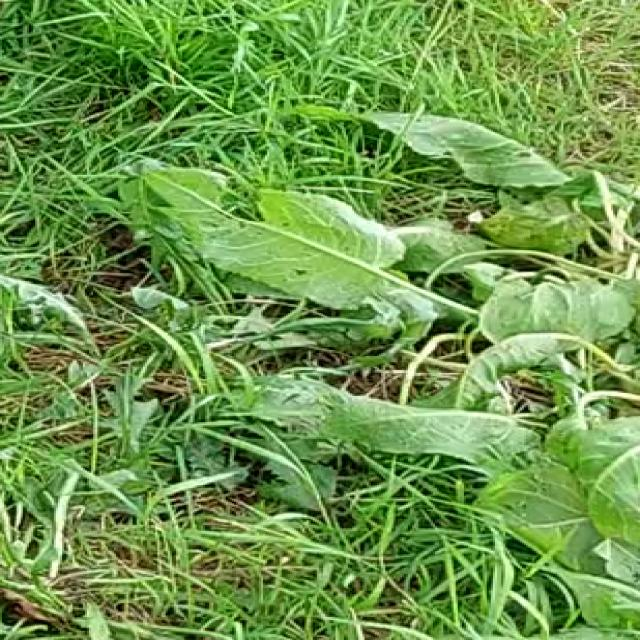organic waste: (128, 123, 640, 603)
